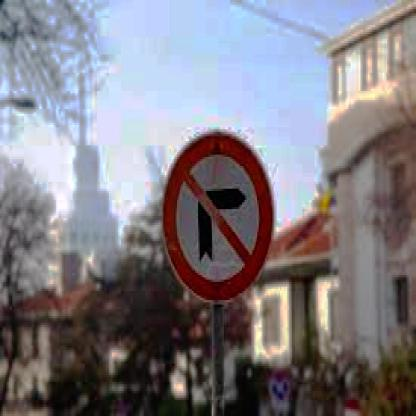No right turn: (158, 126, 282, 307)
